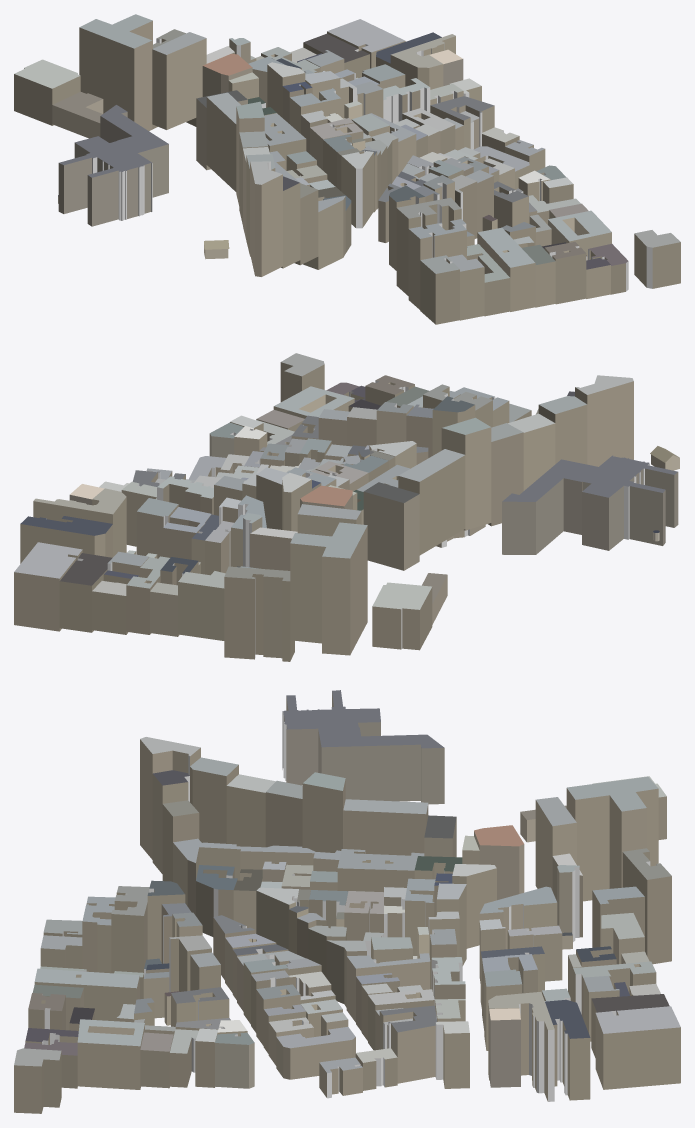
3 views of the same model, one above another, from view 1: azimuth 30°, elevation 25°; view 2: azimuth 150°, elevation 25°; view 3: azimuth 270°, elevation 25° (orthographic). The views are drawn at different scales.
Parts seen in each view (by area): view 1: tuile; view 2: tuile; view 3: tuile.
Part boxes in pixels (bbox=[...]): tuile: bbox=[14, 14, 680, 324]; tuile: bbox=[14, 353, 679, 661]; tuile: bbox=[14, 690, 680, 1113].
Size of the model in its own units: 254 by 73.43 by 262.
